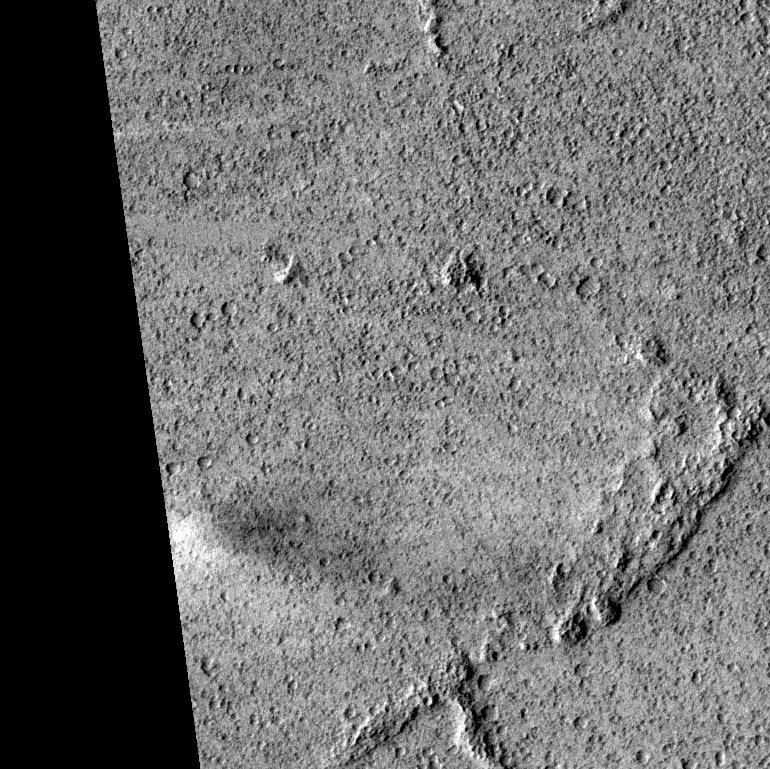dust_devil: (171, 499, 383, 589)
